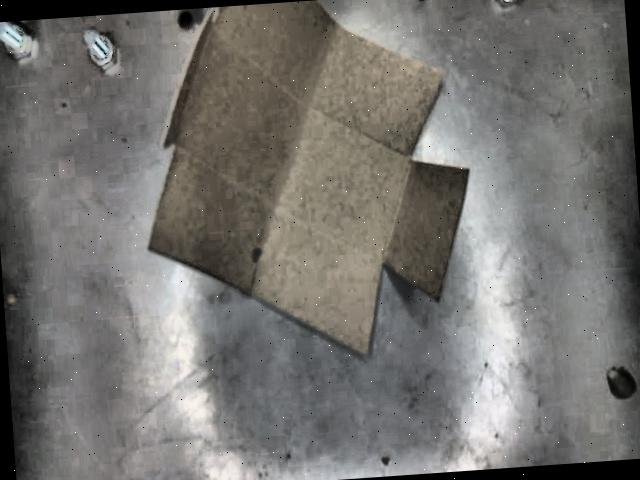Paper: (148, 0, 468, 360)
